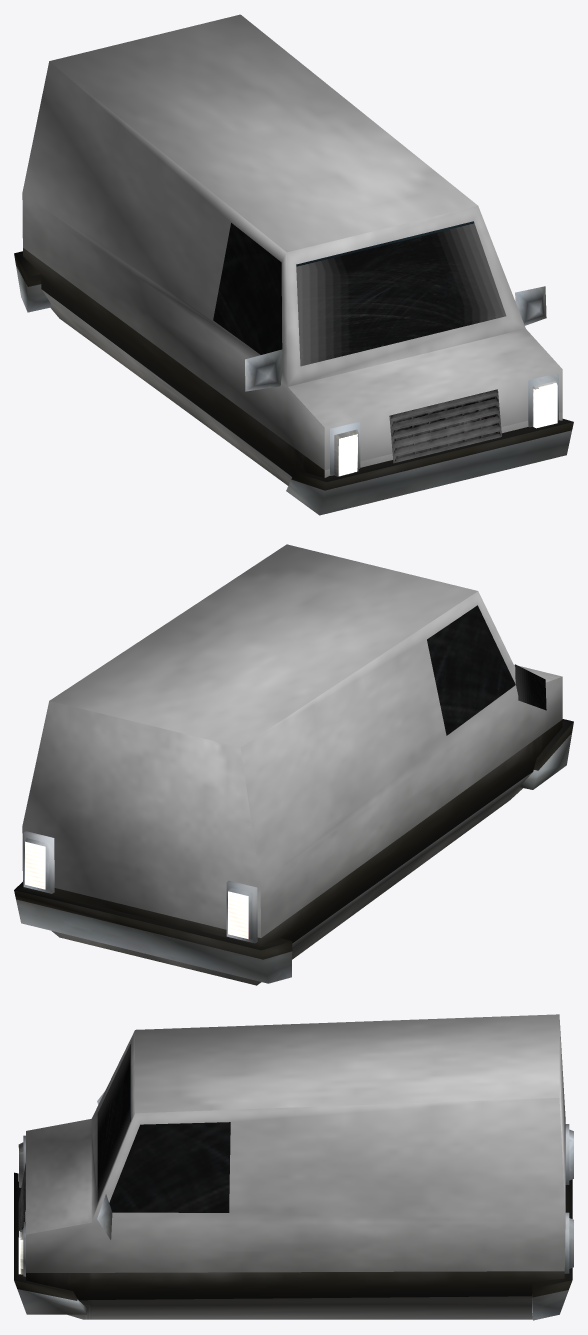
File: EnemyCar_2_v2.fbx
3 renders of one model, top to bottom at view 1: azimuth 30°, elevation 25°; view 2: azimuth 150°, elevation 25°; view 3: azimuth 270°, elevation 25°, orthographic. The views are drawn at different scales.
Visible parts, largest first — view 1: Van.003; view 2: Van.003; view 3: Van.003.
Boxes of the visible parts, x1,y1,x2,y2 form: Van.003: (14, 14, 573, 515); Van.003: (14, 544, 573, 985); Van.003: (14, 1014, 573, 1320).
Bounding box in the file's own units: 75.86 × 59.47 × 137.
